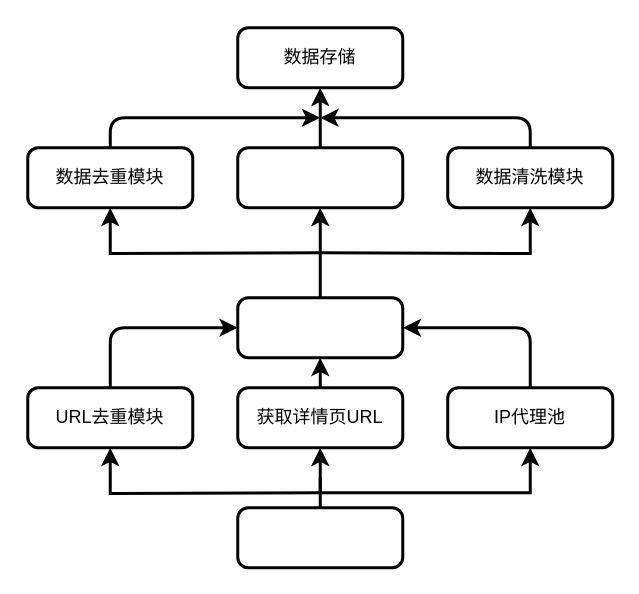
This 639x594 diagram has some shape labels left out. Each missing label, with the centre of its shape:
"标签集设计" belongs at (320,177).
"解析列表页URL" belongs at (320,537).
"页面特定内容获取" belongs at (320,327).
